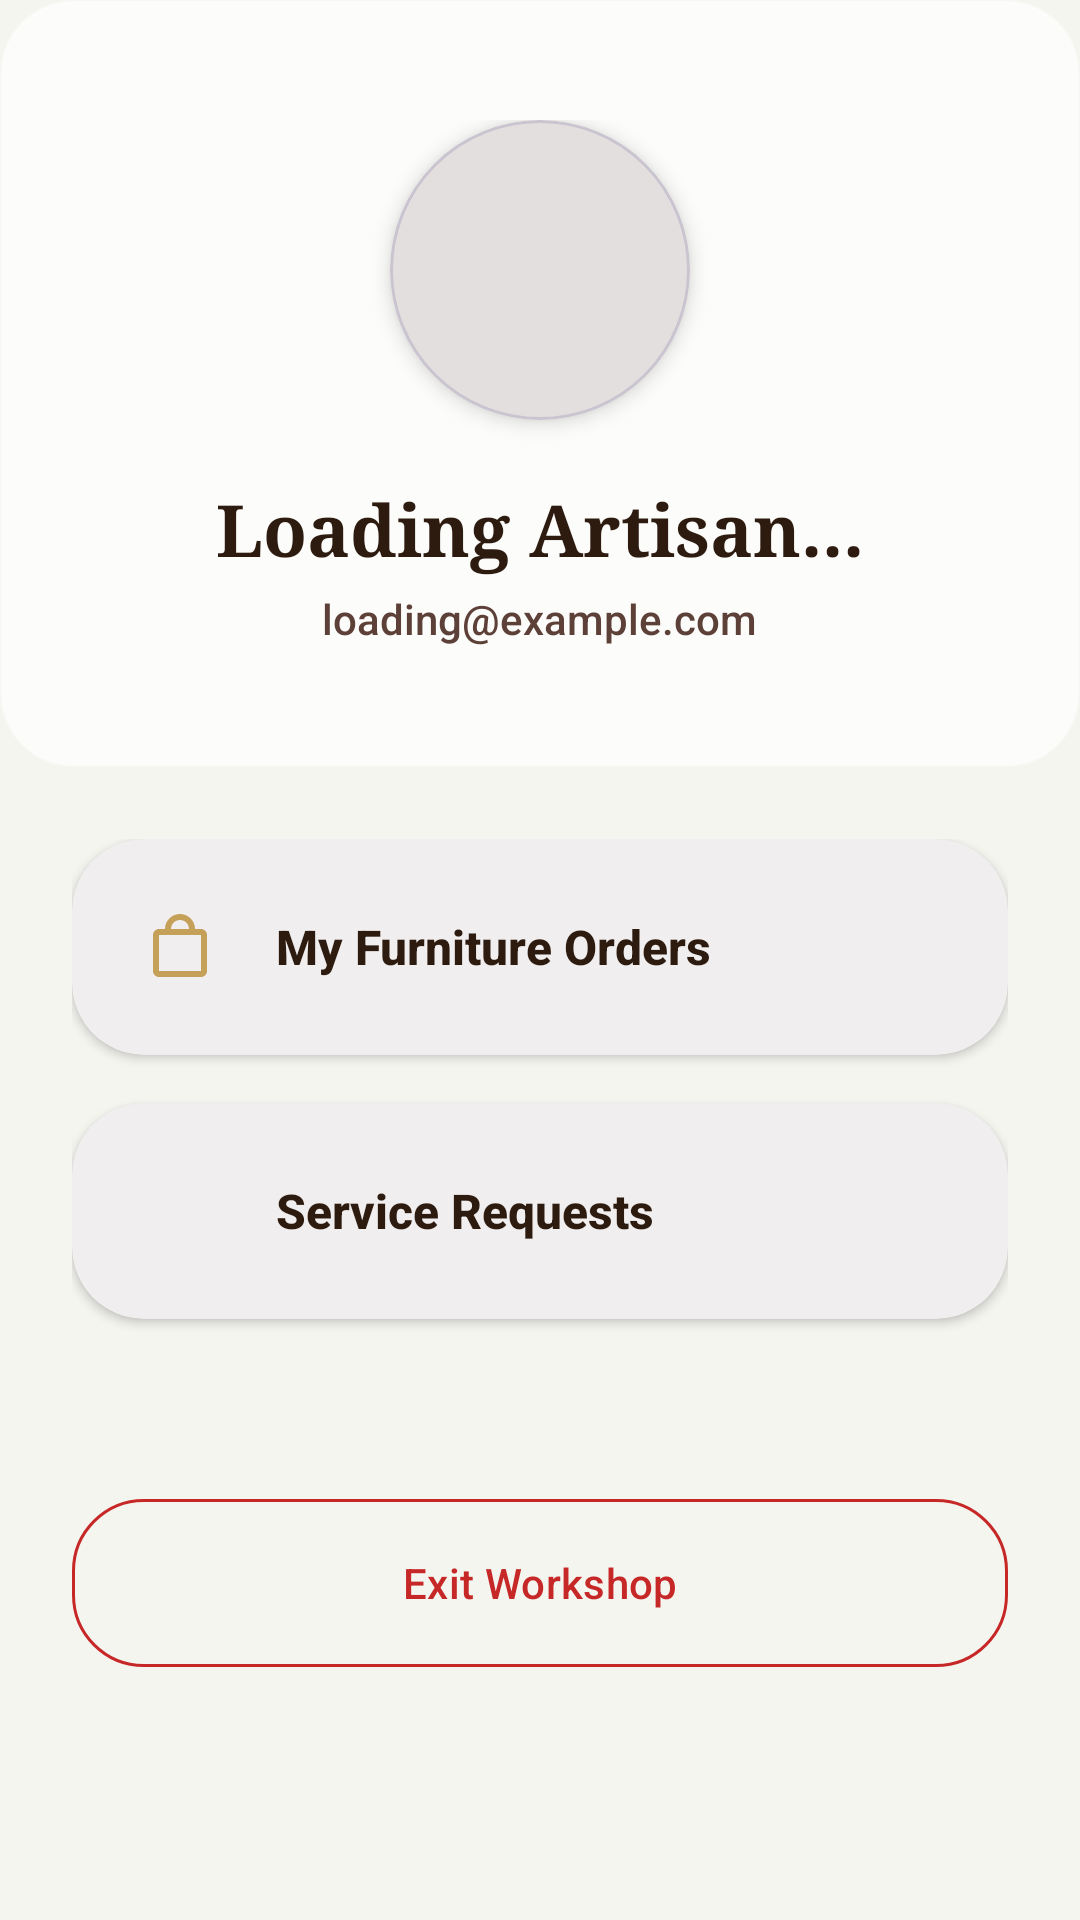

Named icons in this screenshot (1080*1920) and their centers, [x,y]:
shopping bag: [180,945]
